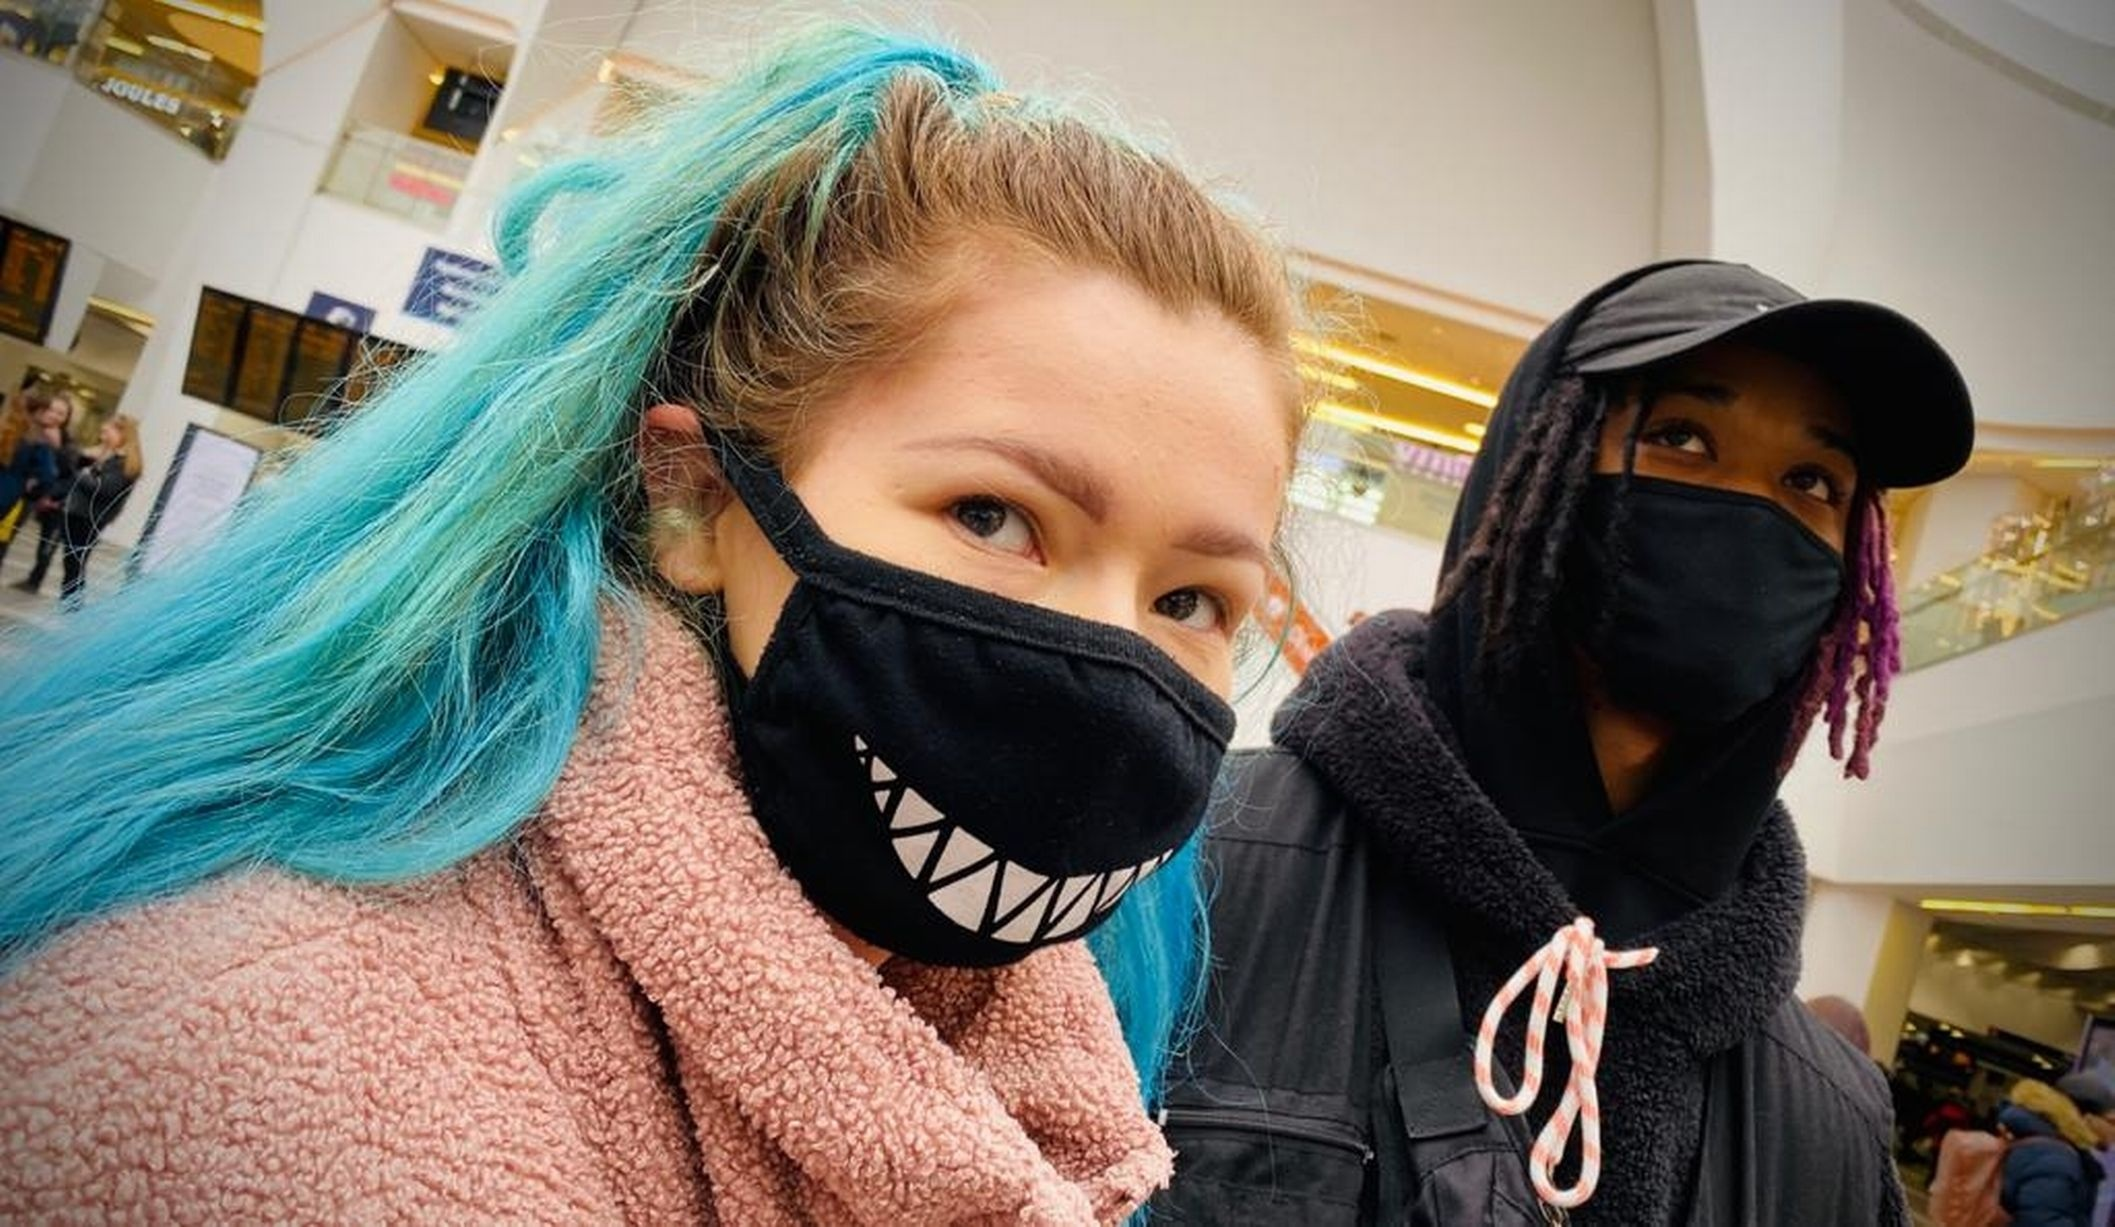with_mask: (696, 227, 1288, 969), (1535, 342, 1864, 729)
